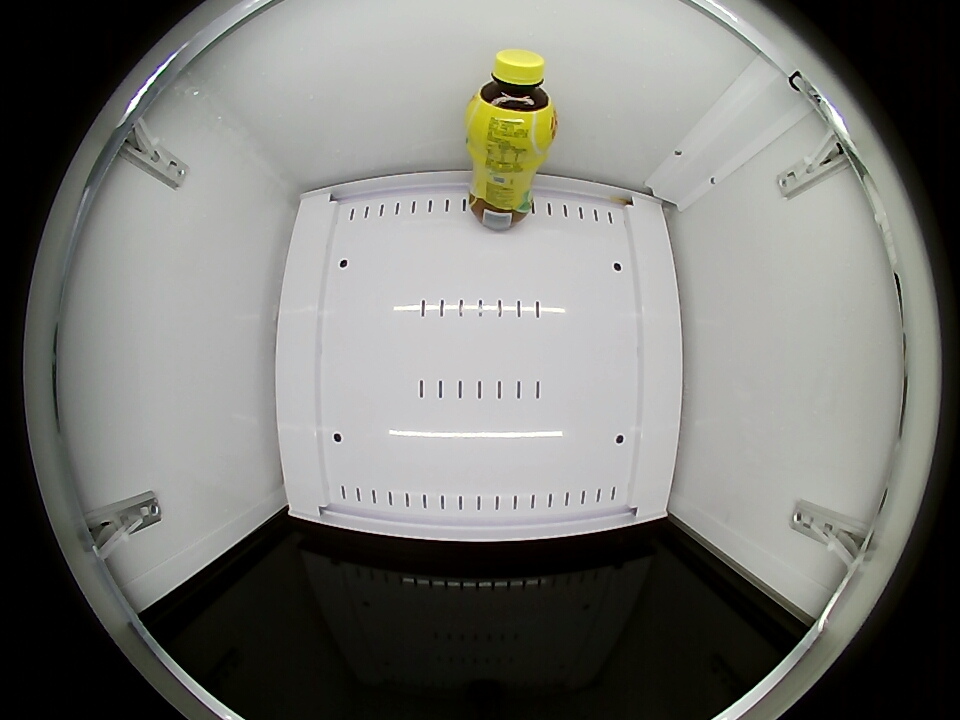weitaningmeng-bottle: (468, 48, 556, 145)
